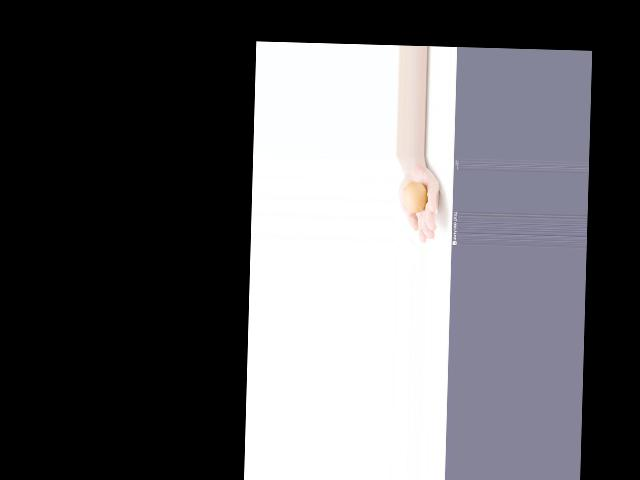egg: (402, 180, 427, 212)
